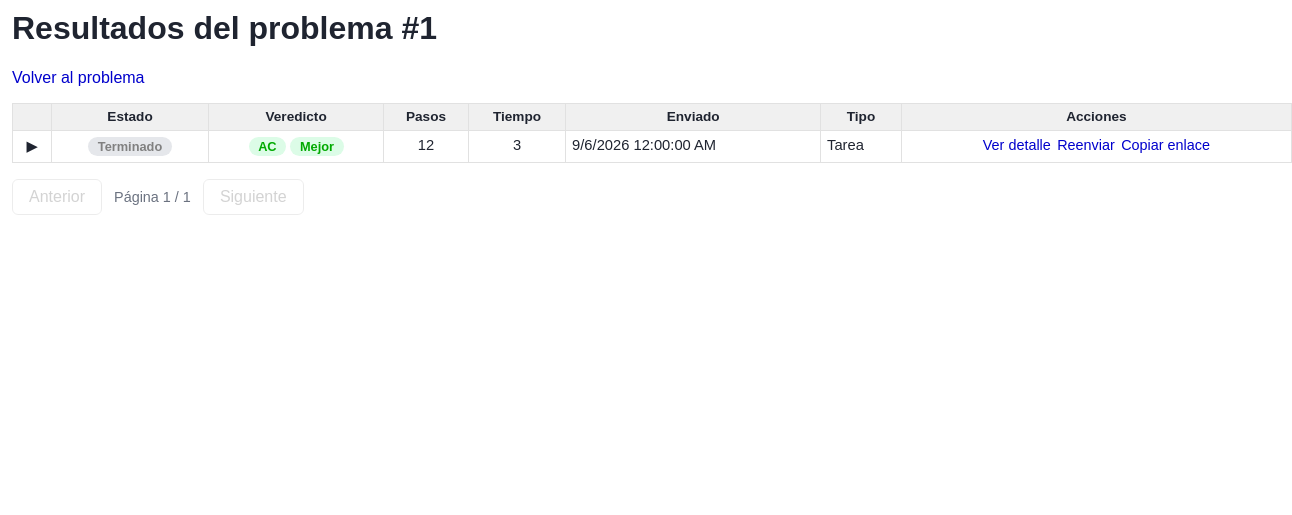
Scenario: Codeforces-style submission rows › per-problem page (ProblemResults) collapses rows by default and expands inline
The width and height of the screenshot is (1292, 515).
Click the text "▶" at (652, 147), box [12,130,1291,163]
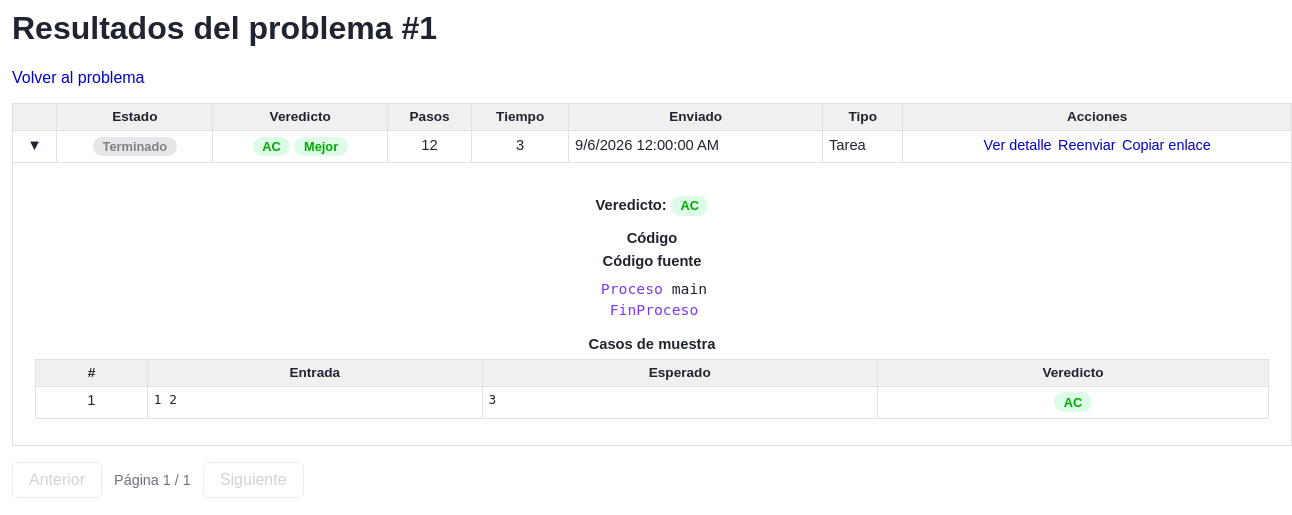
Now the heading "Casos de muestra" is shown, box [589,336,715,352]
